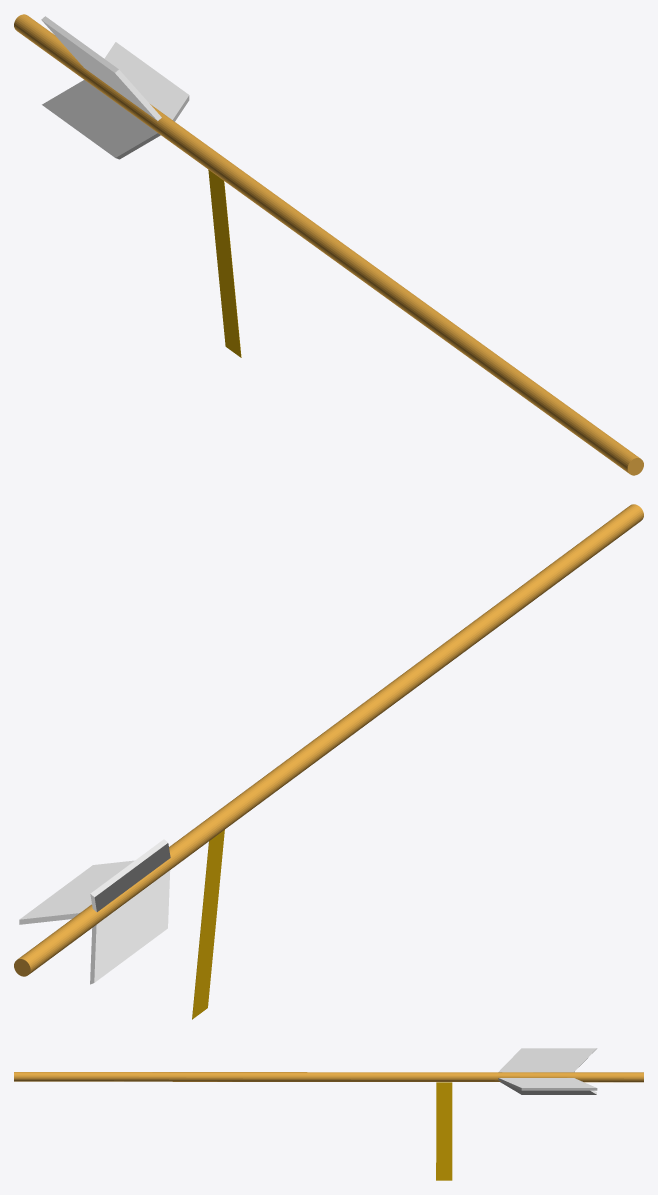
The model's file is arrow_side2.glb.
The picture shows the model from 3 angles, top to bottom: view 1: azimuth 30°, elevation 25°; view 2: azimuth 150°, elevation 25°; view 3: azimuth 270°, elevation 25°; orthographic projection. The views are drawn at different scales.
Parts seen in each view (by area): view 1: arrow, arrow.003, arrow.004, arrow.001, arrow.002; view 2: arrow, arrow.003, arrow.004, arrow.001, arrow.002; view 3: arrow, arrow.002, arrow.004, arrow.001, arrow.003.
Part boxes in pixels (x1,y1,x2,y2): arrow: [14, 14, 643, 475]; arrow.003: [42, 80, 160, 159]; arrow.004: [208, 169, 241, 357]; arrow.001: [104, 42, 189, 121]; arrow.002: [41, 16, 161, 120]; arrow: [14, 504, 643, 976]; arrow.003: [90, 870, 170, 984]; arrow.004: [192, 830, 224, 1019]; arrow.001: [19, 860, 134, 924]; arrow.002: [90, 839, 170, 911]; arrow: [14, 1072, 643, 1082]; arrow.002: [498, 1048, 596, 1072]; arrow.004: [436, 1082, 452, 1180]; arrow.001: [498, 1078, 597, 1090]; arrow.003: [500, 1082, 596, 1094].
Bounding box in the file's own units: 1.39 × 4.2 × 19.56.
